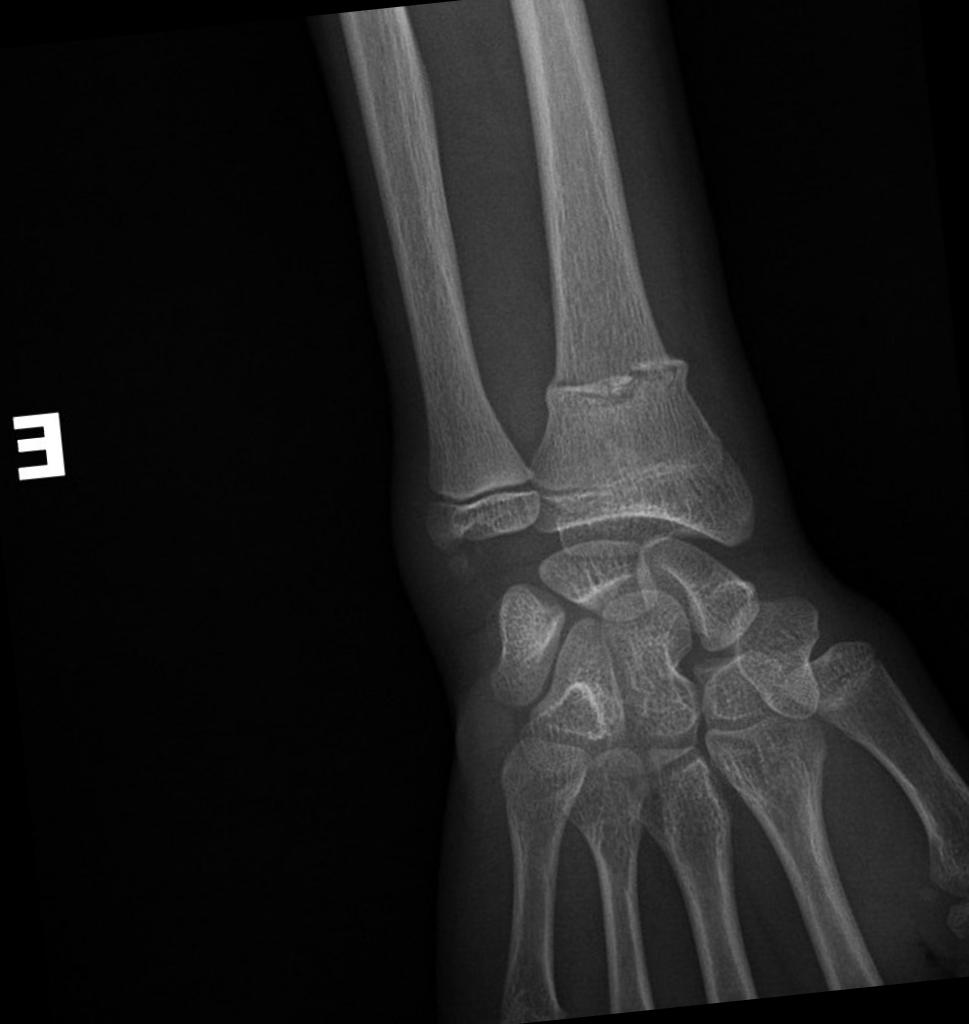line: (539, 350, 689, 402)
